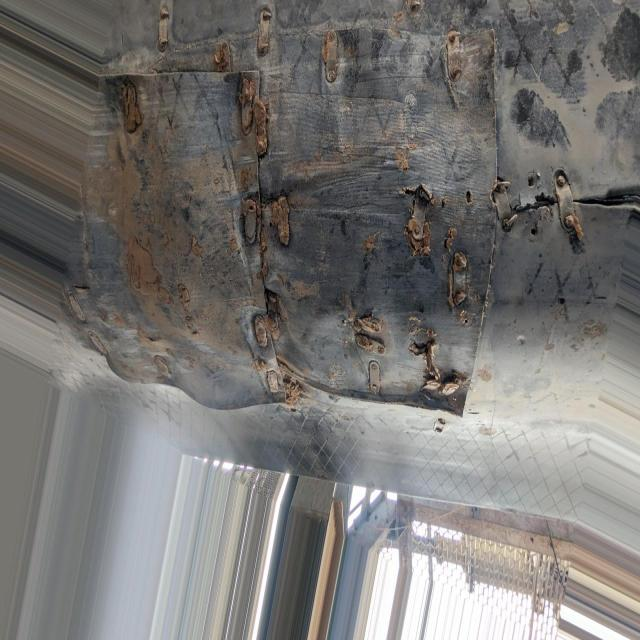patch work: (104, 0, 590, 424)
